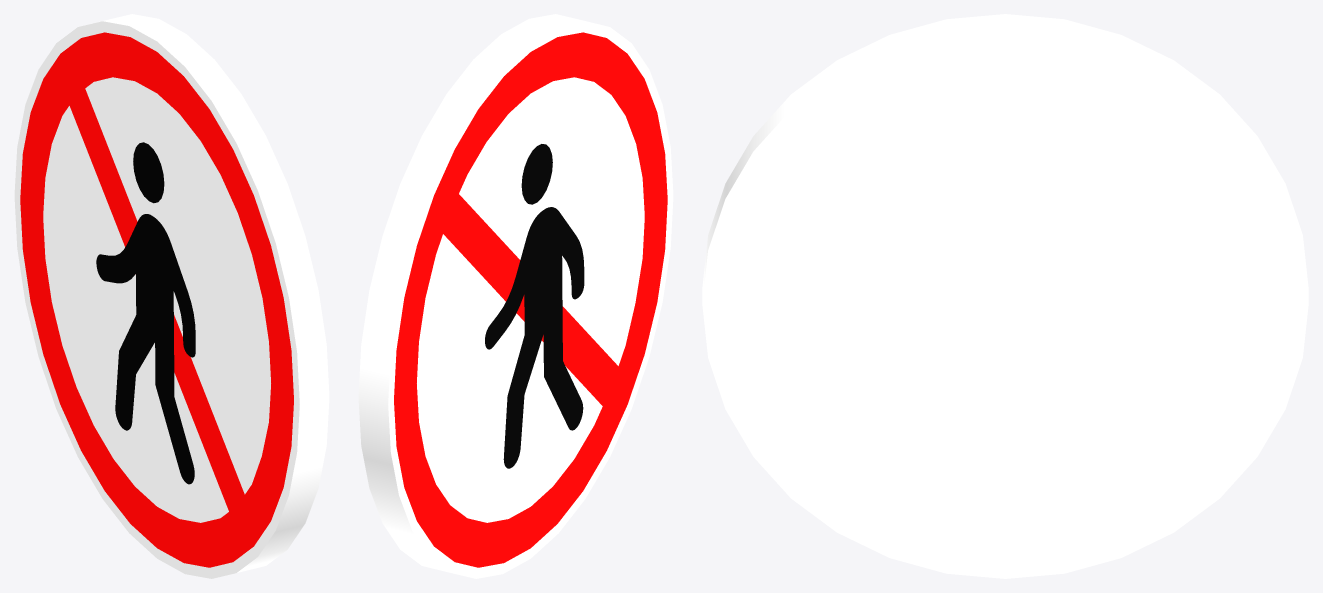
File: No_Pedestrians.glb
3 views of the same model, side by side, from view 1: azimuth 30°, elevation 25°; view 2: azimuth 150°, elevation 25°; view 3: azimuth 270°, elevation 25° (orthographic). The views are drawn at different scales.
Parts seen in each view (by area): view 1: No_Pedestrians; view 2: No_Pedestrians; view 3: No_Pedestrians.
Boxes of the visible parts, left/top/right/bottom form: No_Pedestrians: left=14, top=14, right=329, bottom=578; No_Pedestrians: left=358, top=14, right=673, bottom=578; No_Pedestrians: left=702, top=14, right=1308, bottom=578.
Size of the model in its own units: 0.075 by 1 by 1.
